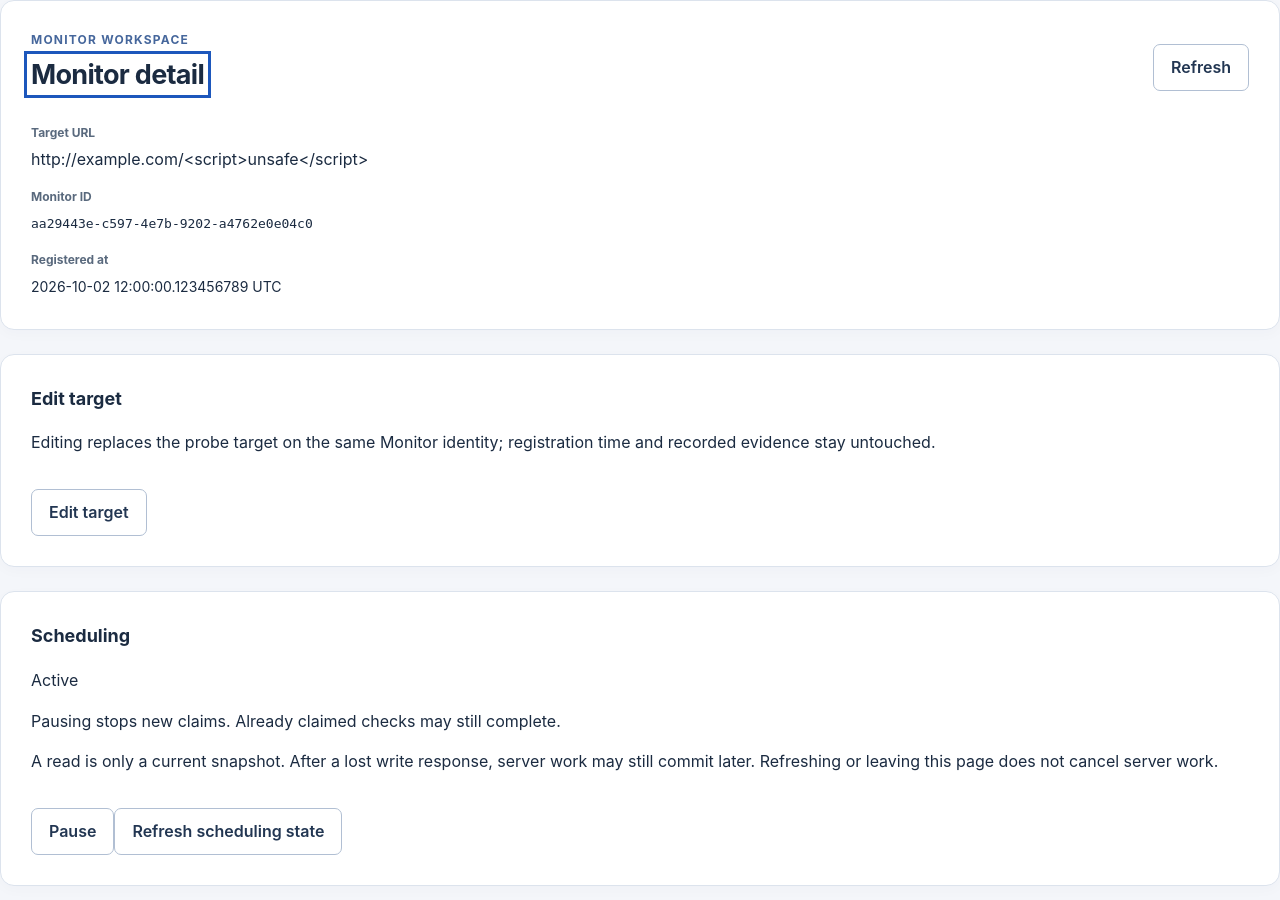
Test case: updates the displayed target through the parent refresh path
expect the text with test id "monitor-target" reads "http://example.com/<script>unsafe</script>": met, box [31,149,368,169]
Click the button "Edit target" at (89, 513), box [31,489,147,536]
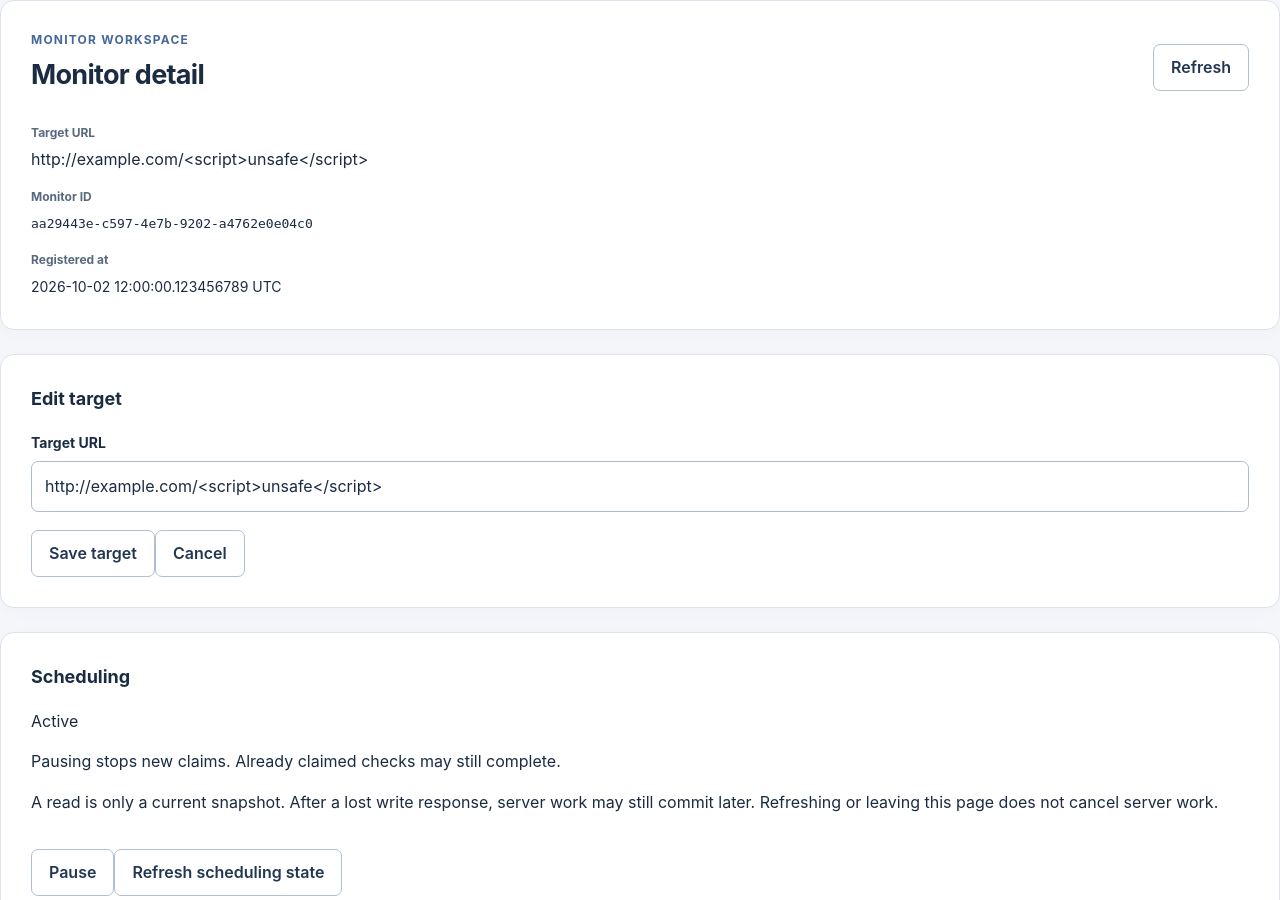
expect the field labelled "Target URL" holds "http://example.com/<script>unsafe</script>": met
Replace the text in the field labelled "Target URL" with "https://example.com/edited" at (640, 486), box [31,461,1249,512]
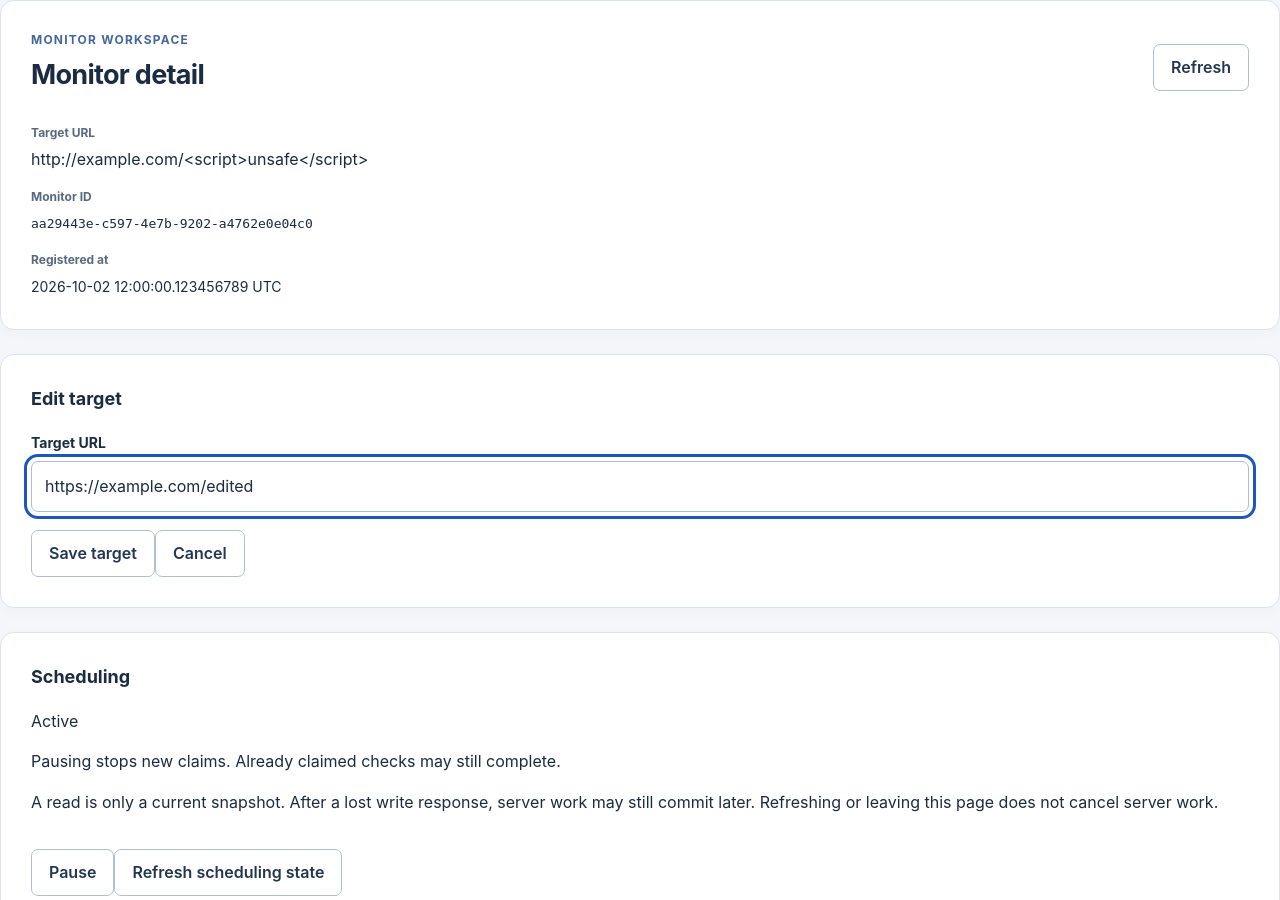
Click the button "Save target" at (93, 553), box [31,530,155,577]
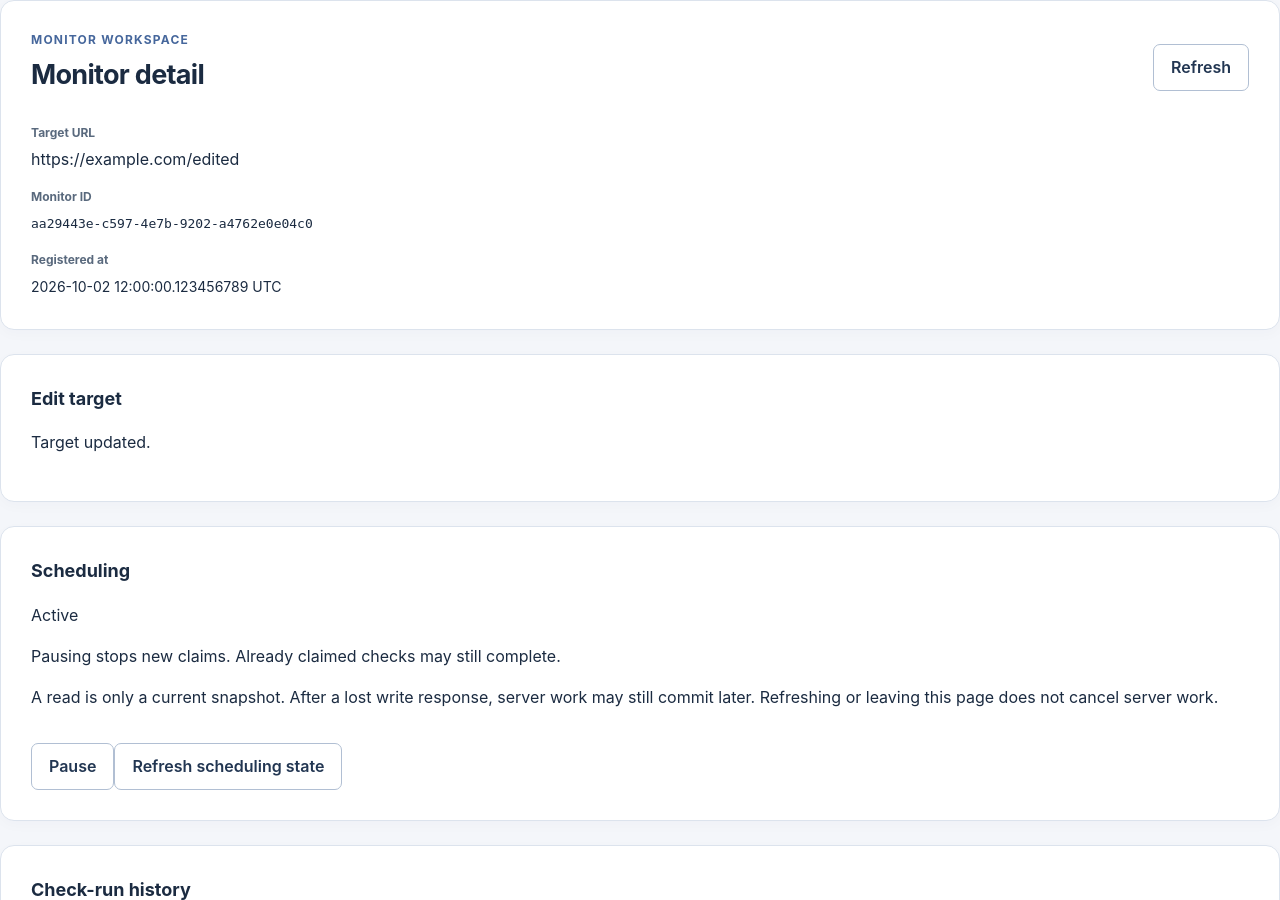
expect the text with test id "monitor-target" reads "https://example.com/edited": met, box [31,149,239,169]
